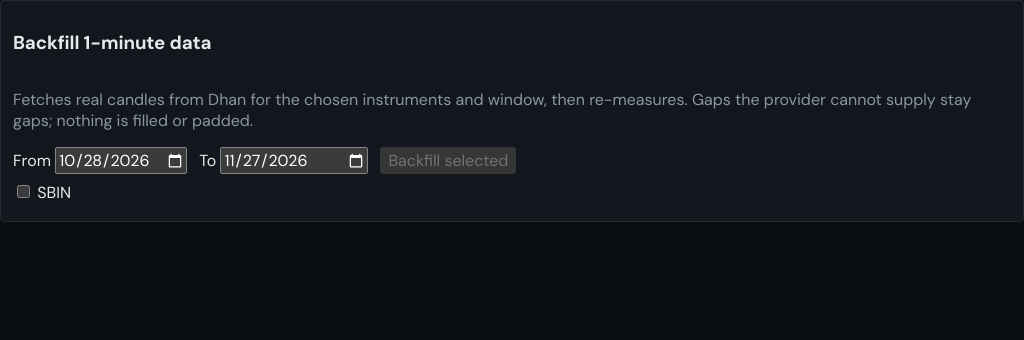
BackfillPanel › starts a backfill for the selected instruments and shows a rate-limit pause as progress, not a freeze
Click the checkbox labelled "SBIN" at (24, 192), box [17,185,30,198]
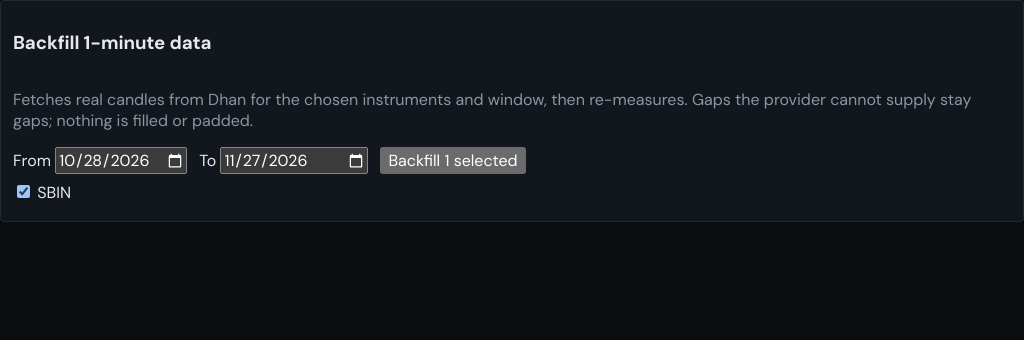
Click the button "Backfill 1 selected" at (453, 161), box [380,147,526,174]
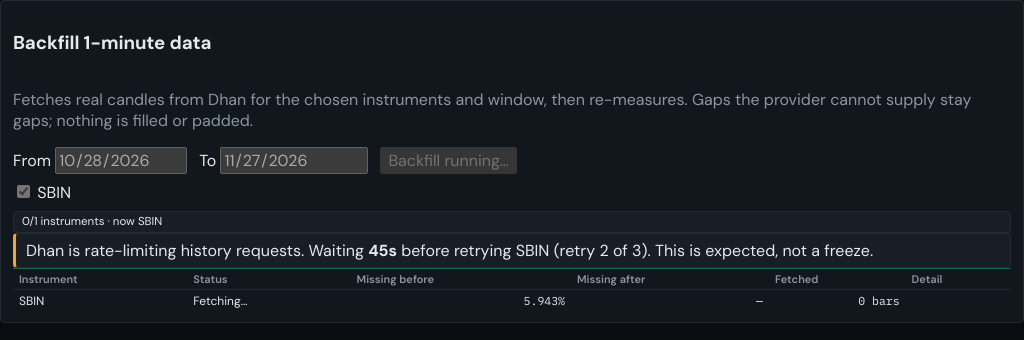
Result: the text "Dhan is rate-limiting history requests" is shown at [26,240,368,261]
Result: the text "retry 2 of 3" is shown at [13,233,1011,268]
